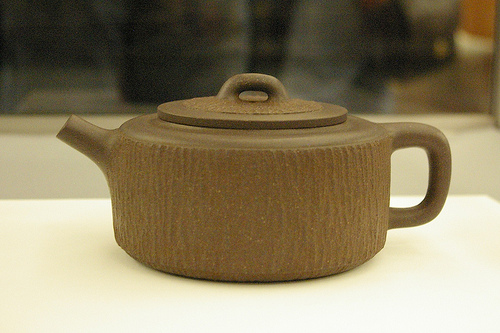teapot: (47, 52, 465, 289)
